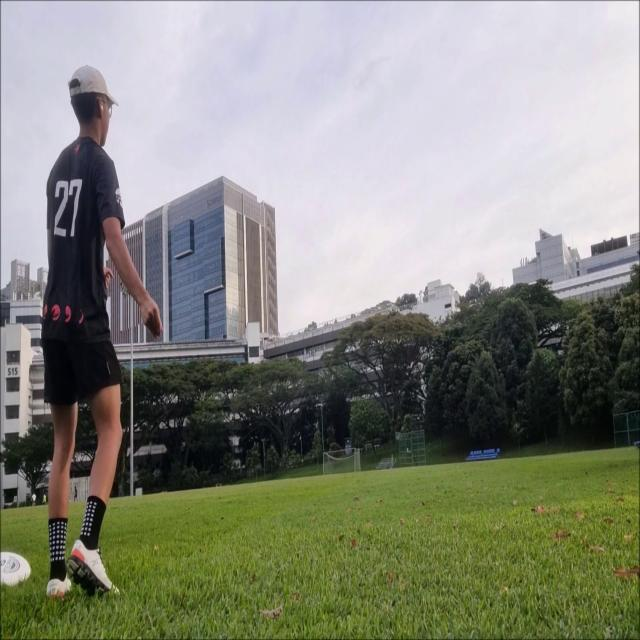disc: (528, 281, 538, 286)
